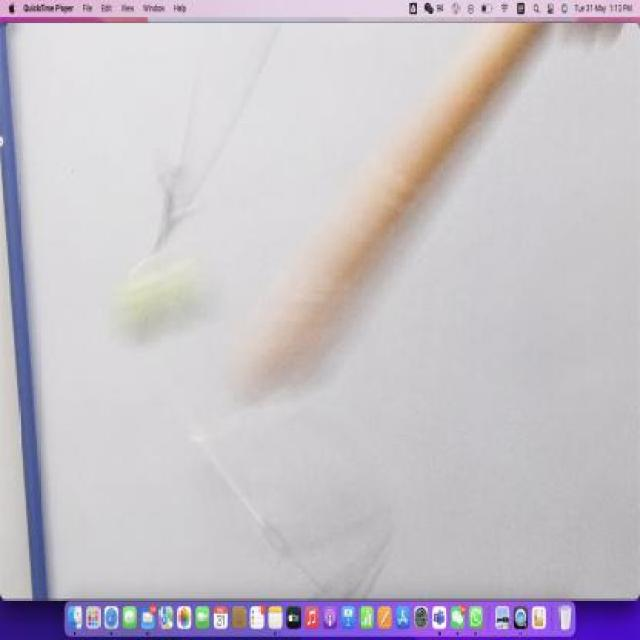baseball: (115, 269, 211, 343)
